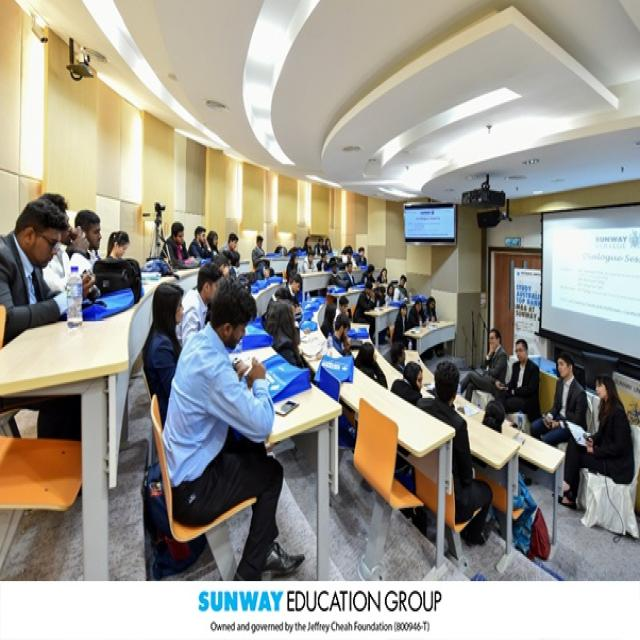body: (160, 274, 308, 581), (0, 198, 82, 442), (140, 280, 251, 433), (412, 358, 494, 548), (552, 369, 634, 513), (35, 189, 95, 317), (478, 398, 536, 530), (528, 350, 589, 451), (174, 261, 224, 349), (455, 326, 508, 404), (497, 336, 542, 427), (265, 299, 305, 371), (300, 231, 370, 272), (72, 207, 104, 272), (206, 252, 254, 294), (160, 218, 197, 269), (351, 278, 378, 346), (353, 341, 389, 390), (389, 360, 424, 409), (406, 296, 427, 352), (390, 301, 410, 357), (186, 225, 216, 261), (331, 311, 353, 358), (104, 229, 132, 263), (319, 301, 340, 341), (284, 272, 304, 309), (314, 250, 332, 291), (342, 259, 361, 293), (217, 231, 240, 256), (285, 250, 300, 288), (360, 262, 380, 290), (251, 234, 266, 271), (332, 295, 348, 323), (423, 294, 439, 322), (205, 229, 220, 255), (372, 283, 387, 309), (302, 250, 319, 272), (396, 274, 409, 302), (327, 264, 342, 287), (376, 266, 388, 294), (383, 282, 394, 304)
